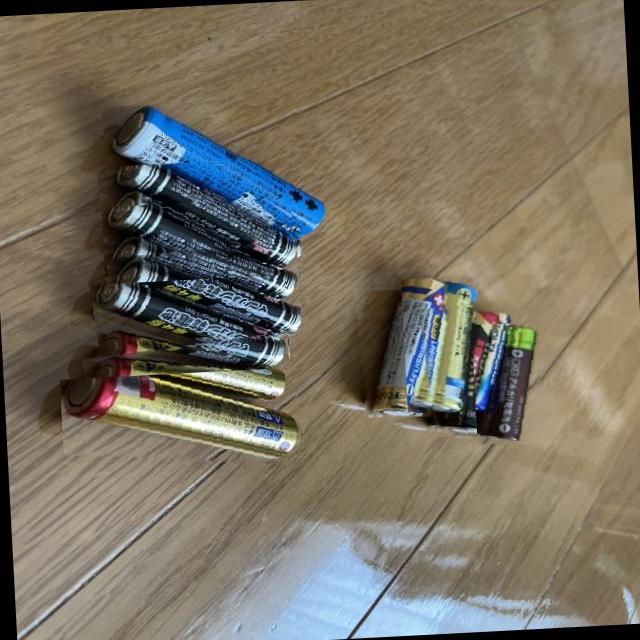Hazard: (100, 96, 325, 250), (58, 367, 306, 478), (94, 158, 301, 278), (101, 198, 295, 312), (104, 240, 301, 348), (86, 275, 289, 379), (80, 332, 290, 418), (352, 274, 456, 420), (400, 276, 487, 416), (416, 302, 505, 438), (471, 322, 546, 448), (453, 304, 518, 418)
